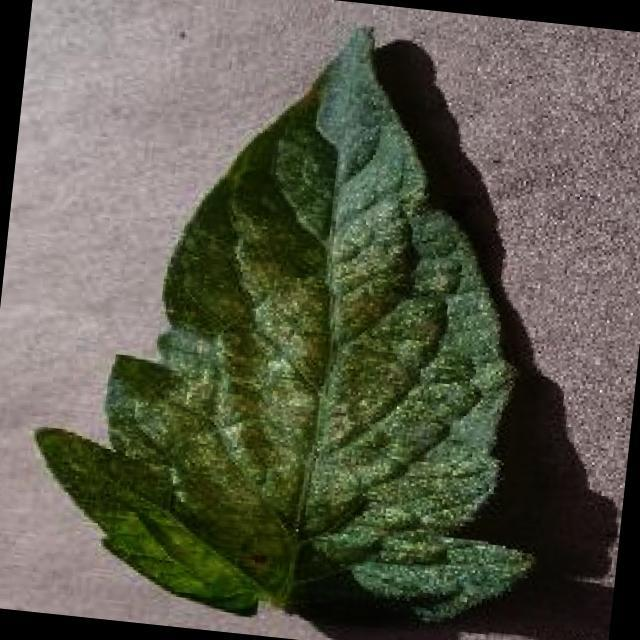Tomato spider mites leaf: (12, 0, 589, 640)
